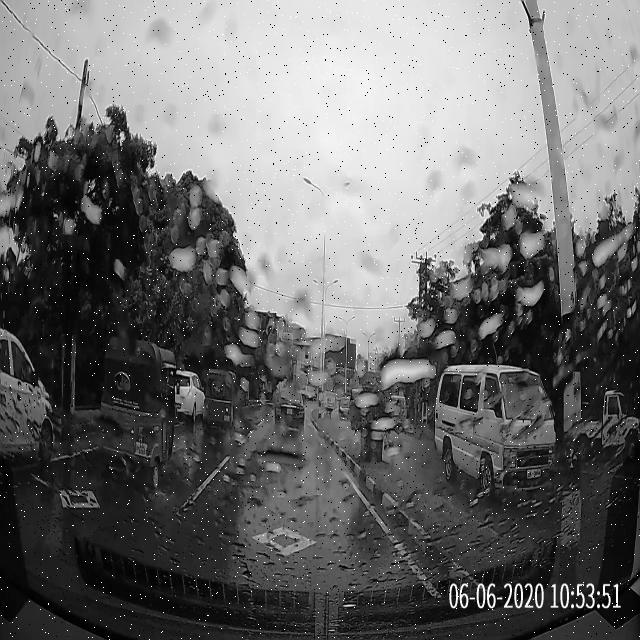diamond: (148, 509, 415, 569)
